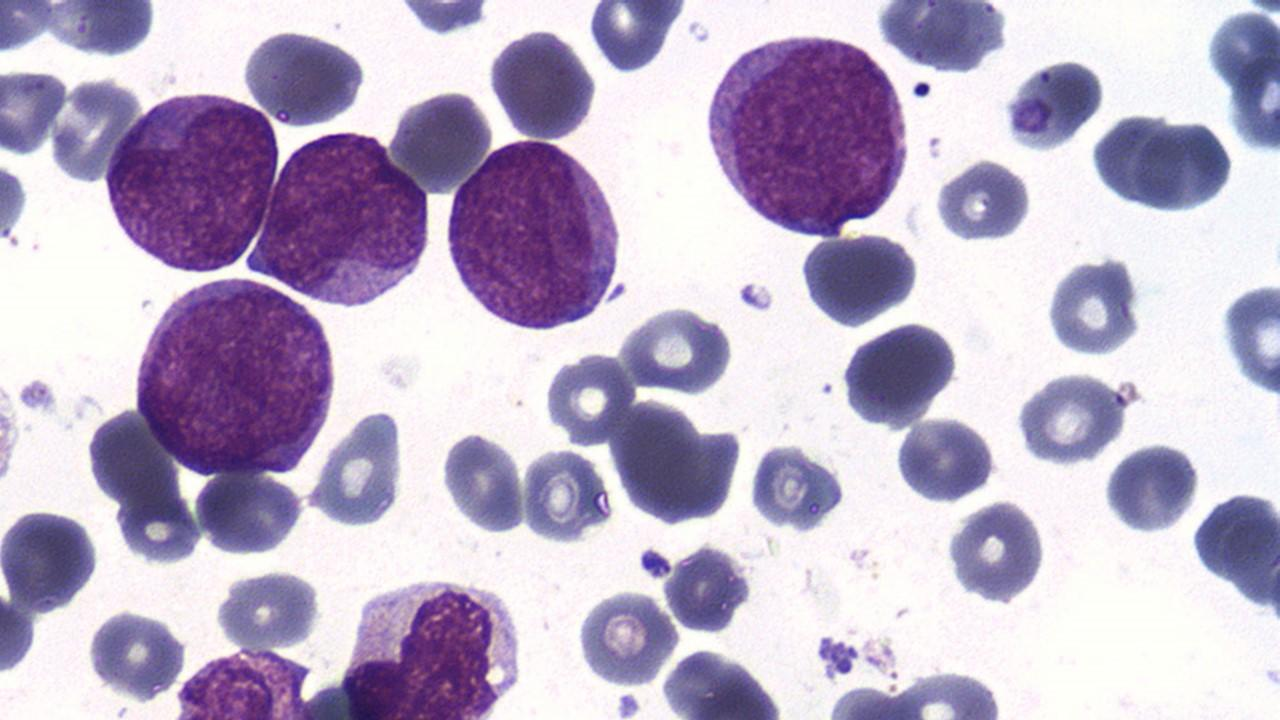Platelets: (17, 376, 58, 415), (735, 279, 776, 315), (637, 546, 674, 582), (613, 688, 642, 719), (1259, 664, 1280, 696), (845, 546, 871, 568), (816, 634, 836, 662), (910, 78, 931, 100), (822, 660, 838, 678)
RBC: (1088, 113, 1240, 217), (838, 319, 964, 431), (1187, 479, 1280, 630), (238, 24, 370, 130), (304, 403, 412, 530), (487, 26, 601, 142), (944, 495, 1056, 610), (1012, 367, 1139, 468), (1201, 0, 1280, 159), (798, 229, 918, 333), (386, 86, 497, 198), (2, 1, 163, 71), (1042, 252, 1146, 360), (0, 505, 102, 615), (616, 302, 736, 395), (572, 586, 681, 688), (1002, 54, 1110, 156), (871, 1, 1015, 76), (48, 73, 140, 189), (82, 607, 189, 704), (746, 437, 850, 536), (193, 466, 307, 556), (892, 415, 1001, 508), (1101, 439, 1203, 537), (658, 644, 790, 718), (211, 566, 323, 652), (438, 427, 528, 534), (542, 351, 637, 447), (931, 159, 1035, 245), (519, 445, 605, 547), (664, 542, 750, 636), (1219, 274, 1280, 399), (113, 485, 204, 568), (587, 1, 687, 75), (880, 668, 1014, 718), (1228, 39, 1280, 158), (1, 67, 67, 156), (390, 0, 496, 33), (0, 588, 38, 675), (0, 145, 30, 254), (0, 155, 30, 249)
WBC: (701, 23, 914, 242), (128, 270, 340, 482), (437, 134, 631, 336), (247, 126, 436, 313), (98, 85, 282, 277), (335, 572, 531, 718)
